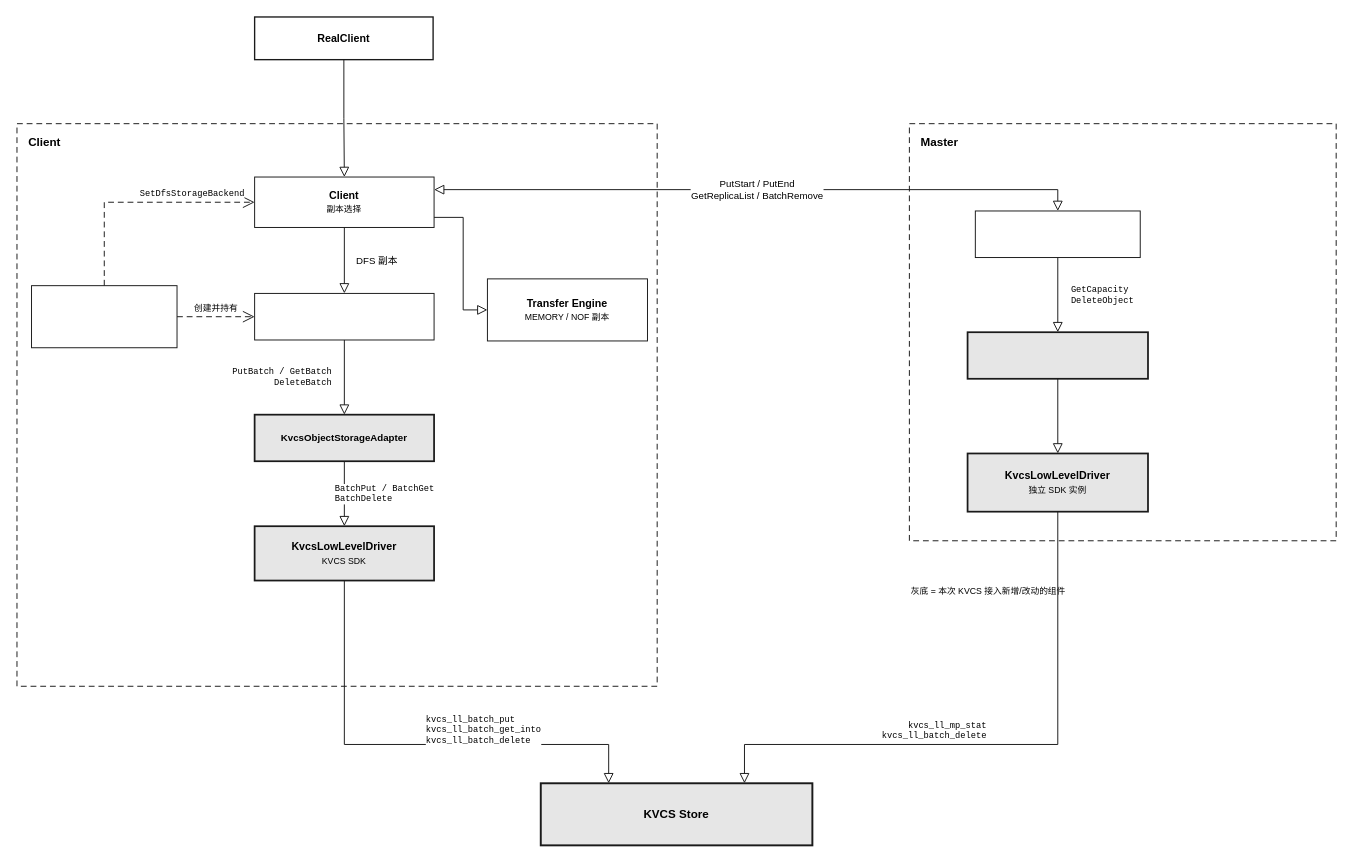
The diagram is 1353 pixels wide and 863 high, and some of its shapes have lost their labels. The shapes that lost their labels are listed below. From the top down, each one's centre as x and y in pixels, then its label:
(1057,234): MasterService
(104,316): FileStorage 装配期注入 backend
(344,316): DistributedStorageBackend
(1057,355): KvcsCapacityProvider
